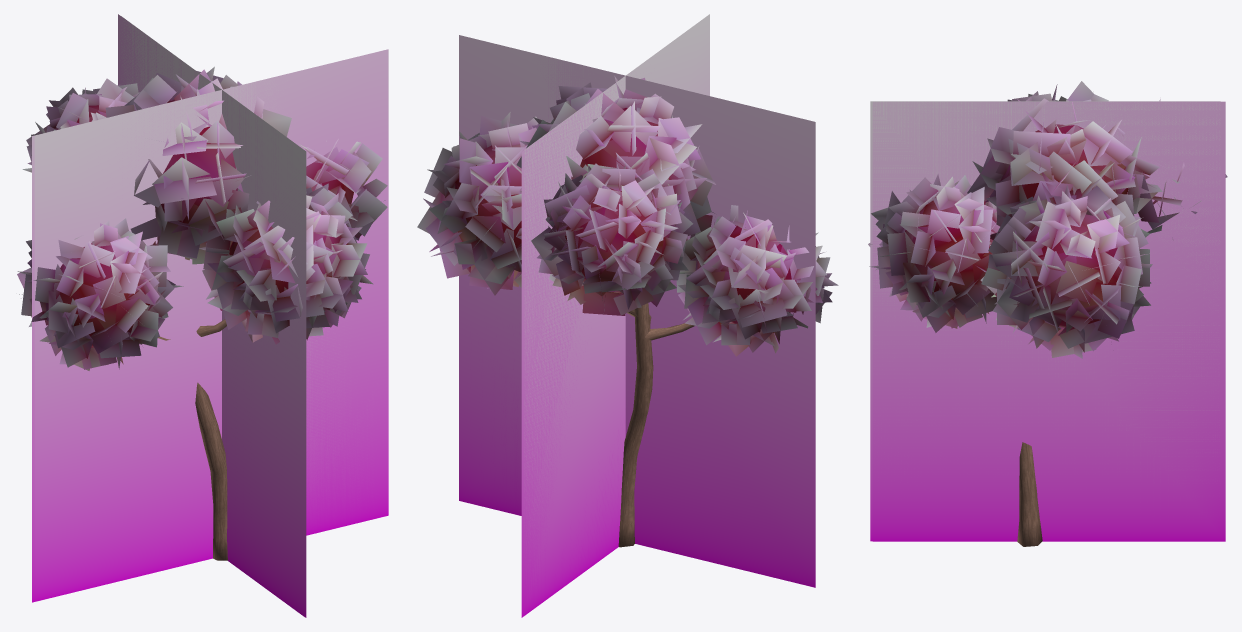
The model's file is FAE_Tree_C.fbx.
The picture shows the model from 3 angles, left to right: view 1: azimuth 30°, elevation 25°; view 2: azimuth 150°, elevation 25°; view 3: azimuth 270°, elevation 25°; orthographic projection. The views are drawn at different scales.
Visible parts, largest first — view 1: FAE_Tree_C_Billboard, FAE_Tree_C_LOD0; view 2: FAE_Tree_C_Billboard, FAE_Tree_C_LOD0; view 3: FAE_Tree_C_Billboard, FAE_Tree_C_LOD0.
Part boxes in pixels (<box>): FAE_Tree_C_Billboard: <box>32,14,388,617</box>; FAE_Tree_C_LOD0: <box>17,66,387,560</box>; FAE_Tree_C_Billboard: <box>459,14,815,617</box>; FAE_Tree_C_LOD0: <box>417,76,838,547</box>; FAE_Tree_C_Billboard: <box>870,101,1225,541</box>; FAE_Tree_C_LOD0: <box>868,81,1227,546</box>.
Size of what is drawn, in the model's own units: 1004 by 1243 by 913.
